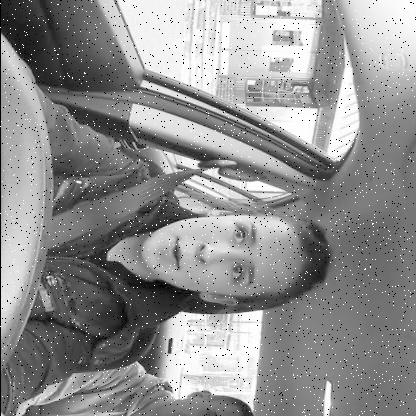seatbelt: (0, 150, 340, 328)
